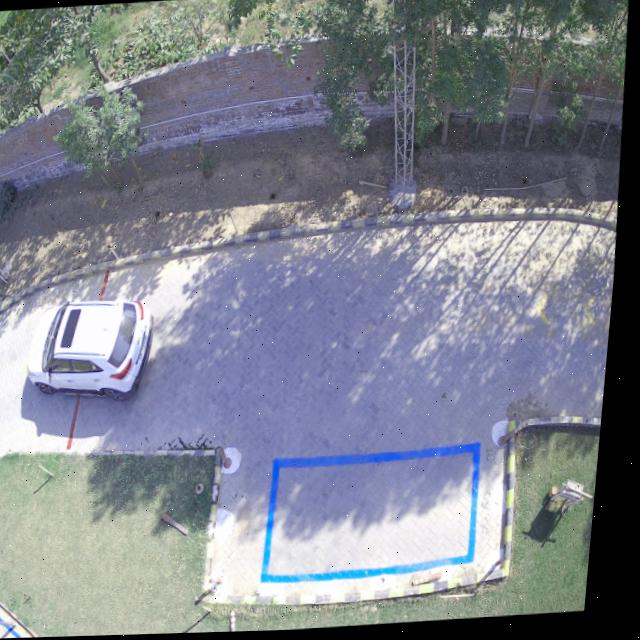car: (31, 300, 160, 399)
